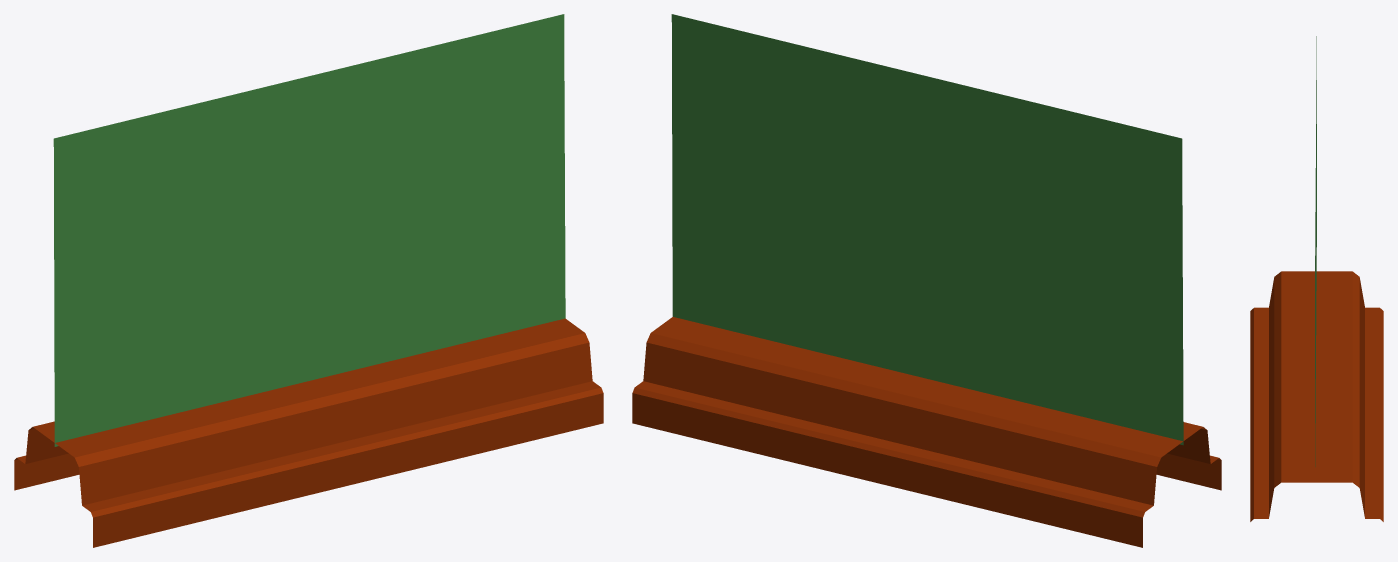
The model's file is Wall_Fence.fbx.
3 renders of one model, left to right at view 1: azimuth 30°, elevation 25°; view 2: azimuth 150°, elevation 25°; view 3: azimuth 270°, elevation 25°, orthographic. The views are drawn at different scales.
Parts seen in each view (by area): view 1: Wall_Fence; view 2: Wall_Fence; view 3: Wall_Fence.
Boxes of the visible parts, x1=… form: Wall_Fence: x1=14, y1=14, x2=603, y2=547; Wall_Fence: x1=632, y1=14, x2=1221, y2=547; Wall_Fence: x1=1250, y1=36, x2=1383, y2=521.
Bounding box in the file's own units: 1 × 0.7124 × 0.2663.
